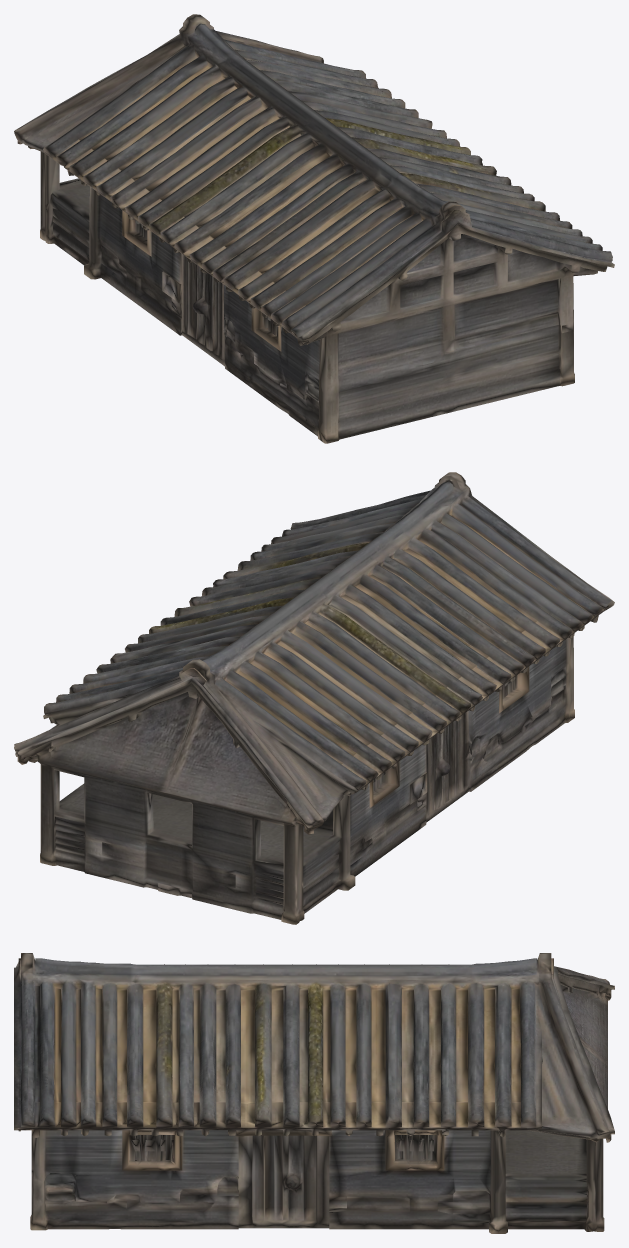
Rendered from kf-house.glb.
3 views of the same model, one above another, from view 1: azimuth 30°, elevation 25°; view 2: azimuth 150°, elevation 25°; view 3: azimuth 270°, elevation 25° (orthographic).
Visible parts, largest first — view 1: Supplied kf-house; view 2: Supplied kf-house; view 3: Supplied kf-house.
Boxes of the visible parts, x1,y1,x2,y2 form: Supplied kf-house: [14, 14, 614, 443]; Supplied kf-house: [14, 472, 614, 924]; Supplied kf-house: [14, 953, 614, 1233].
Size of the model in its own units: 0.6203 by 0.3933 by 1.
Materials: 1 (1 with a texture image).
